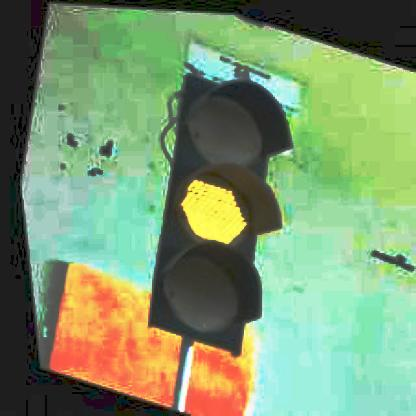Traffic Light -Yellow-: (116, 59, 324, 362)
